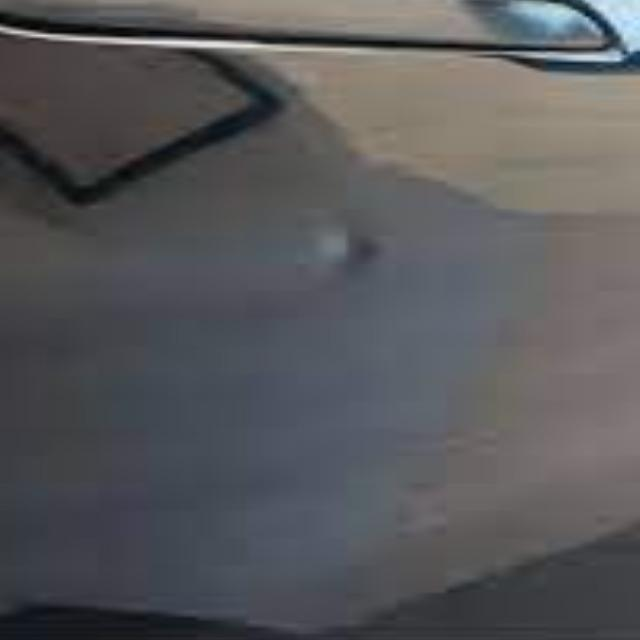dents: (283, 202, 464, 302)
